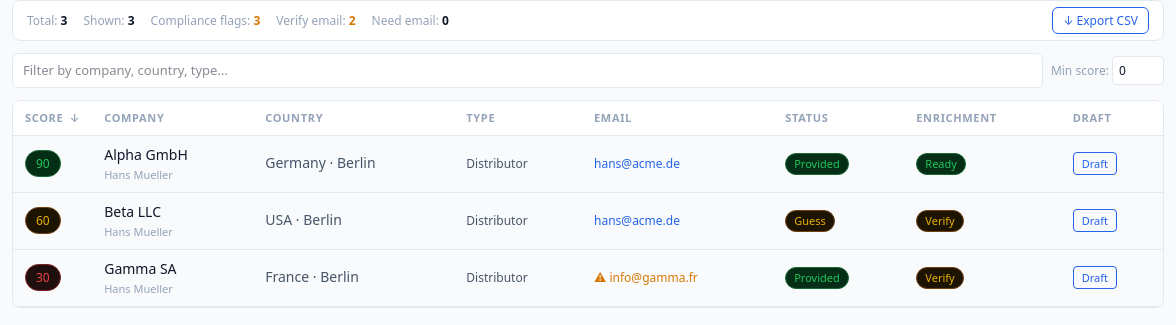
LeadsTable › filters by min score
Replace the text in the number field labelled "Min score:" with "70" at coordinates (1138, 71), box [1112,56,1164,85]
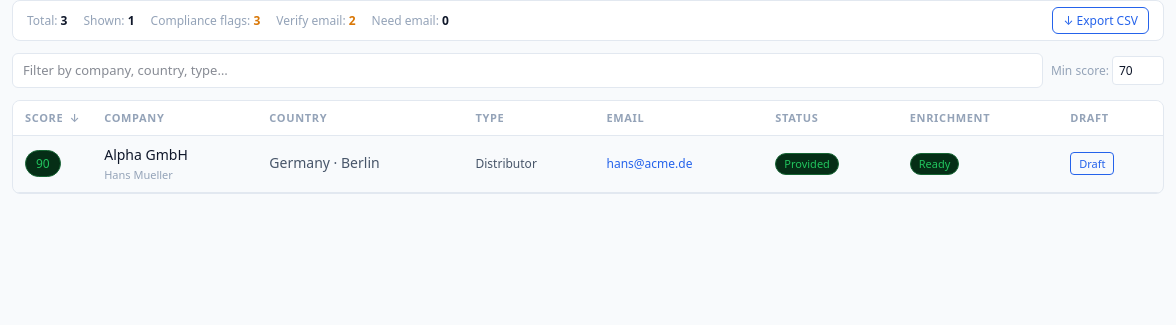
Expected: the text "Alpha GmbH" is shown, [104,145,188,164]
Now the text "Beta LLC" is gone
Now the text "Gamma SA" is gone
